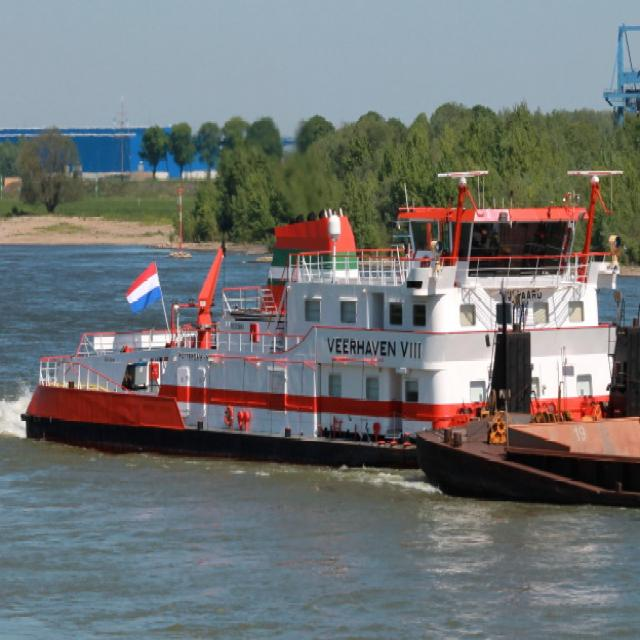tugboat: (18, 166, 640, 478)
